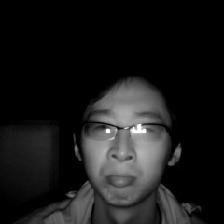sad: (68, 61, 186, 215)
